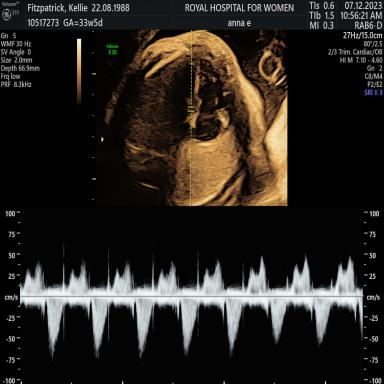Ultrasound-Waves: (25, 218, 360, 384)
